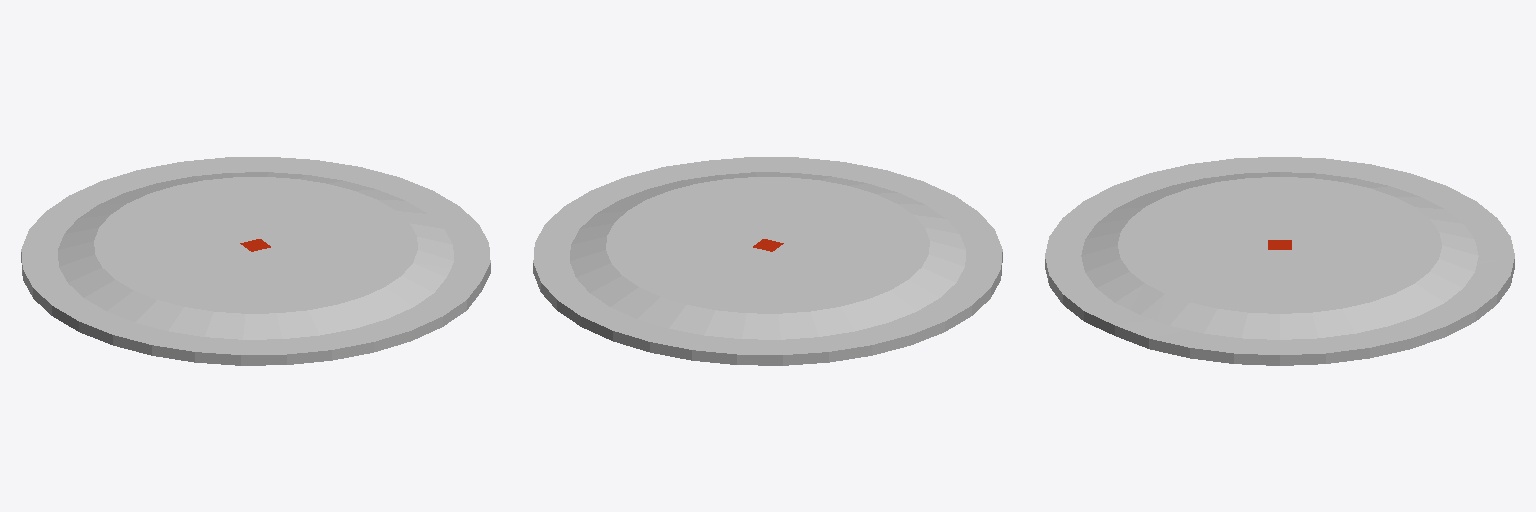
Rendered from Platform3.obj.
3 views of the same model, side by side, from view 1: azimuth 30°, elevation 25°; view 2: azimuth 150°, elevation 25°; view 3: azimuth 270°, elevation 25° (orthographic).
Visible parts, largest first — view 1: Cylinder; view 2: Cylinder; view 3: Cylinder.
Part boxes in pixels (left/top/right/bottom): Cylinder: left=21, top=157, right=490, bottom=365; Cylinder: left=533, top=157, right=1002, bottom=365; Cylinder: left=1045, top=157, right=1514, bottom=365.
Bounding box in the file's own units: 40 × 2 × 40.